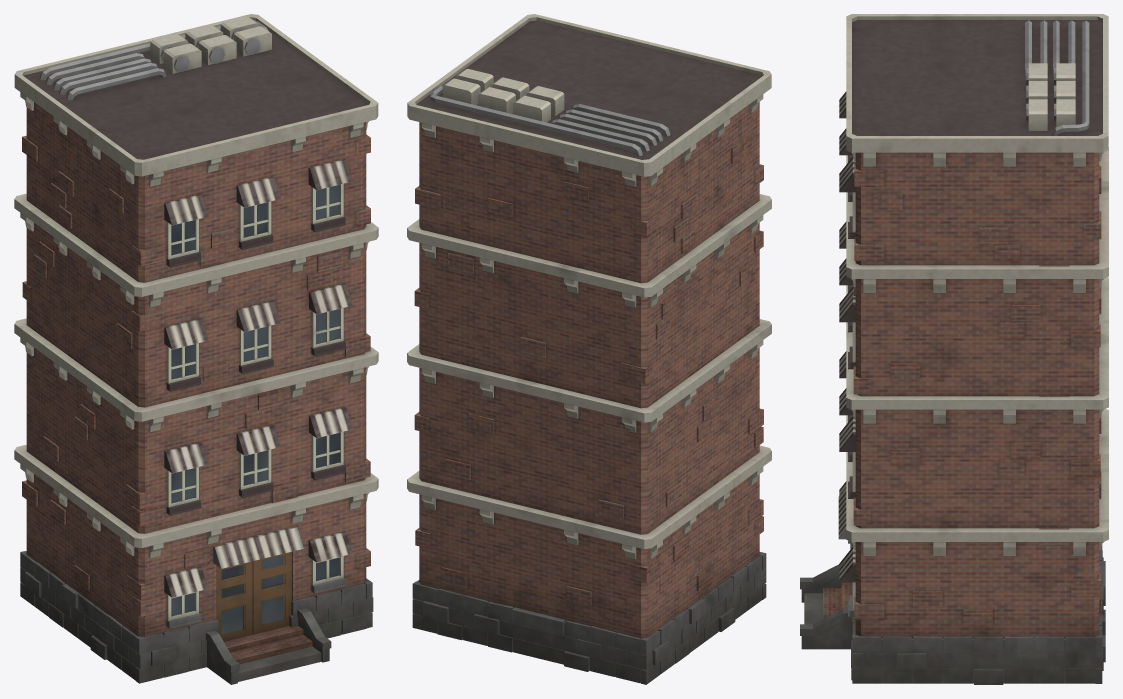
Rendered from 4Story.glb.
3 renders of one model, left to right at view 1: azimuth 30°, elevation 25°; view 2: azimuth 150°, elevation 25°; view 3: azimuth 270°, elevation 25°, orthographic. The views are drawn at different scales.
Visible parts, largest first — view 1: 4Story_medium; view 2: 4Story_medium; view 3: 4Story_medium.
Part boxes in pixels (bbox=[...]): 4Story_medium: bbox=[14, 14, 378, 684]; 4Story_medium: bbox=[407, 14, 771, 684]; 4Story_medium: bbox=[800, 14, 1108, 684].
Bounding box in the file's own units: 2.42 × 5.09 × 2.53.
2 materials, 2 textured.
